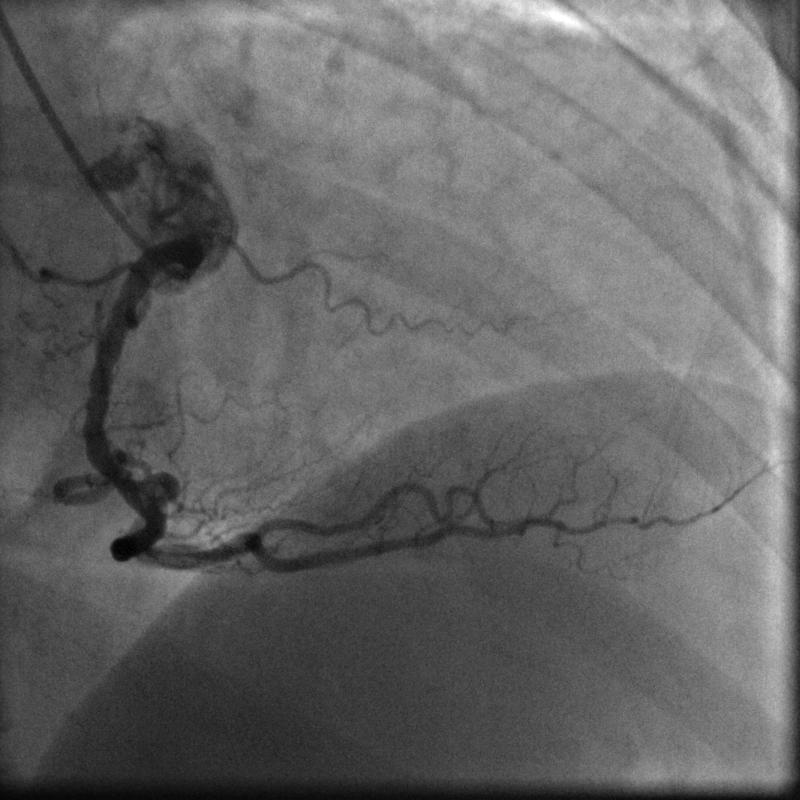Stenosis: (87, 460, 151, 498)
